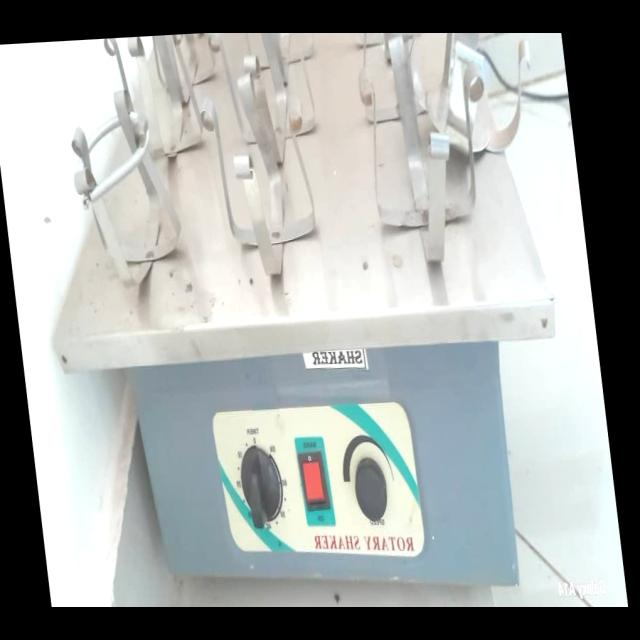Rotary Shaker: (16, 33, 591, 607)
